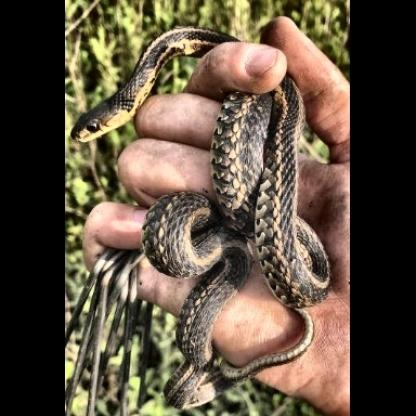Snake: (75, 22, 333, 312)
